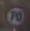limite 70: (4, 4, 26, 27)
